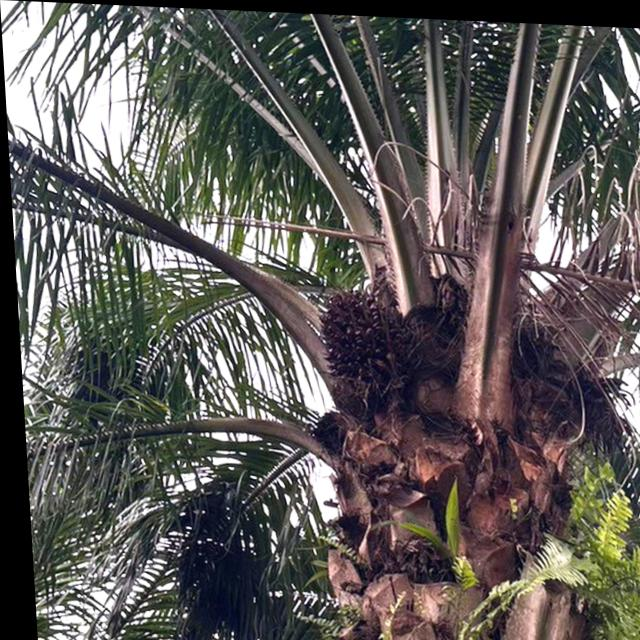ripe: (304, 270, 428, 394)
